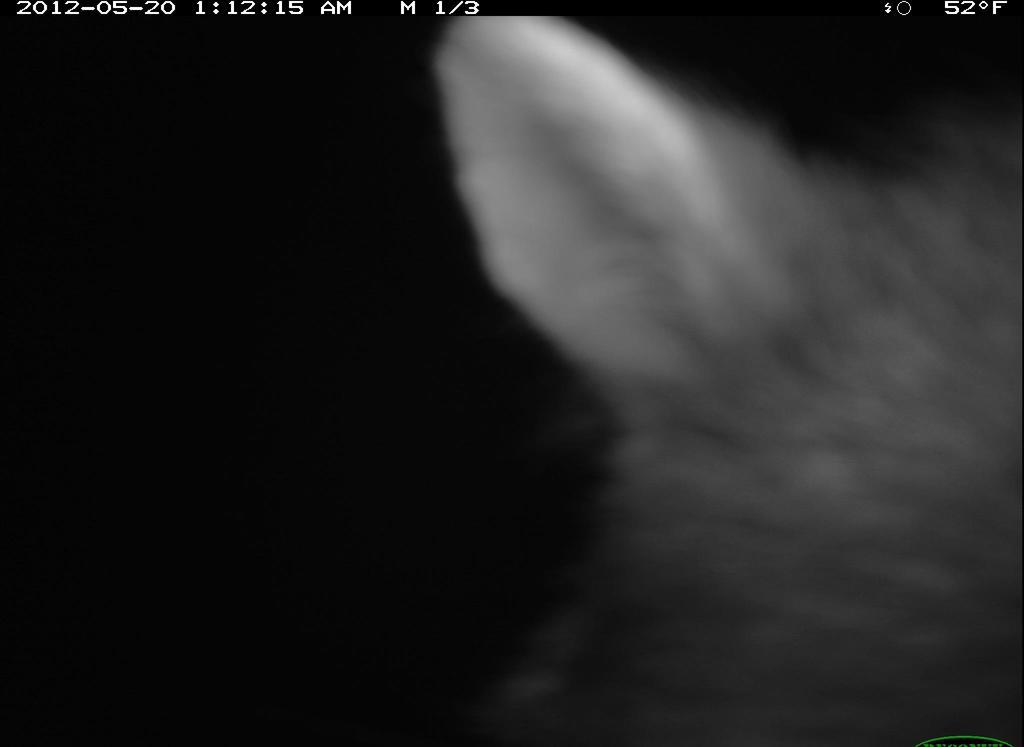raccoon: (419, 14, 1024, 747)
